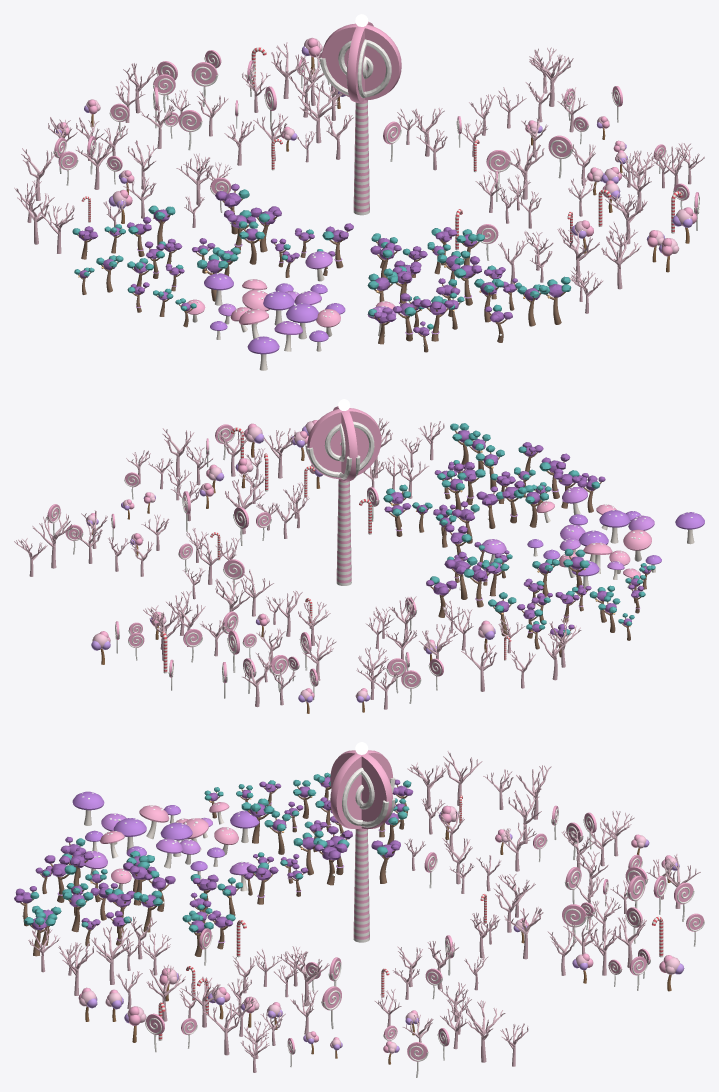
The model's file is CandyForest_MainStructures.fbx.
3 renders of one model, top to bottom at view 1: azimuth 30°, elevation 25°; view 2: azimuth 150°, elevation 25°; view 3: azimuth 270°, elevation 25°, orthographic. The views are drawn at different scales.
Visible parts, largest first — view 1: CAN_Landmark_LollipopTree, CAN_GiantMushroom_C_04, CAN_TwistedTree_B_08, CAN_TwistedTree_B_03, CAN_GiantMushroom_C, CAN_Lollipop_GiantPink_03, CAN_GiantMushroom_C_08, CAN_TwistedTree_C_09, CAN_BareTree_Pink_B_13; view 2: CAN_Landmark_LollipopTree, CAN_GiantMushroom_B_02, CAN_GiantMushroom_C_04, CAN_TwistedTree_A, CAN_GiantMushroom_C_08, CAN_TwistedTree_B_13, CAN_BareTree_Pink_B_01, CAN_TwistedTree_B_08, CAN_TwistedTree_B_04, CAN_TwistedTree_C_05; view 3: CAN_Landmark_LollipopTree, CAN_TwistedTree_B_03, CAN_TwistedTree_A, CAN_GiantMushroom_C_08, CAN_BareTree_Pink_B_05, CAN_GiantMushroom_C_04, CAN_BareTree_Pink_B_01, CAN_TwistedTree_C_05, CAN_TwistedTree_A_04.
Part boxes in pixels (<box>): CAN_Landmark_LollipopTree: <box>320,14,401,215</box>; CAN_GiantMushroom_C_04: <box>286,303,318,339</box>; CAN_TwistedTree_B_08: <box>450,256,481,305</box>; CAN_TwistedTree_B_03: <box>420,296,454,341</box>; CAN_GiantMushroom_C: <box>263,291,294,325</box>; CAN_Lollipop_GiantPink_03: <box>191,62,218,106</box>; CAN_GiantMushroom_C_08: <box>247,336,279,370</box>; CAN_TwistedTree_C_09: <box>540,276,571,324</box>; CAN_BareTree_Pink_B_13: <box>298,85,341,143</box>; CAN_Landmark_LollipopTree: <box>305,399,381,585</box>; CAN_GiantMushroom_B_02: <box>623,529,651,561</box>; CAN_GiantMushroom_C_04: <box>599,510,630,543</box>; CAN_TwistedTree_A: <box>444,551,477,599</box>; CAN_GiantMushroom_C_08: <box>675,512,704,544</box>; CAN_TwistedTree_B_13: <box>463,565,496,607</box>; CAN_BareTree_Pink_B_01: <box>32,512,73,568</box>; CAN_TwistedTree_B_08: <box>453,462,485,504</box>; CAN_TwistedTree_B_04: <box>500,478,524,523</box>; CAN_TwistedTree_C_05: <box>563,548,589,588</box>; CAN_Landmark_LollipopTree: <box>330,742,395,942</box>; CAN_TwistedTree_B_03: <box>44,855,76,902</box>; CAN_TwistedTree_A: <box>314,840,347,885</box>; CAN_GiantMushroom_C_08: <box>72,791,104,825</box>; CAN_BareTree_Pink_B_05: <box>91,926,133,984</box>; CAN_GiantMushroom_C_04: <box>113,818,146,851</box>; CAN_BareTree_Pink_B_01: <box>464,1000,505,1062</box>; CAN_TwistedTree_C_05: <box>241,798,274,843</box>; CAN_TwistedTree_A_04: <box>371,840,400,883</box>.
Bounding box in the file's own units: 245 × 81.17 × 251.
